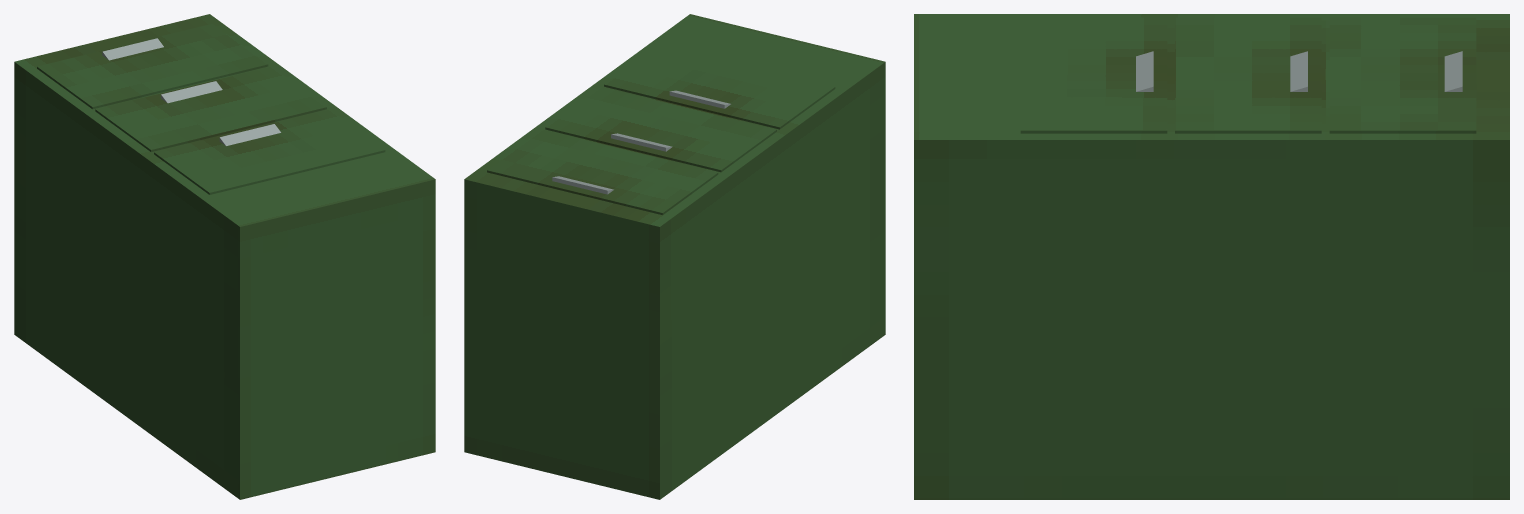
Rendered from FilingCabinet.fbx.
The picture shows the model from 3 angles, left to right: view 1: azimuth 30°, elevation 25°; view 2: azimuth 150°, elevation 25°; view 3: azimuth 270°, elevation 25°; orthographic projection. The views are drawn at different scales.
Parts seen in each view (by area): view 1: FilingCabinet; view 2: FilingCabinet; view 3: FilingCabinet.
Part boxes in pixels (x1,y1,x2,y2): FilingCabinet: (14, 14, 435, 499); FilingCabinet: (464, 14, 885, 499); FilingCabinet: (914, 14, 1509, 499).
Bounding box in the file's own units: 120 × 164 × 240.
